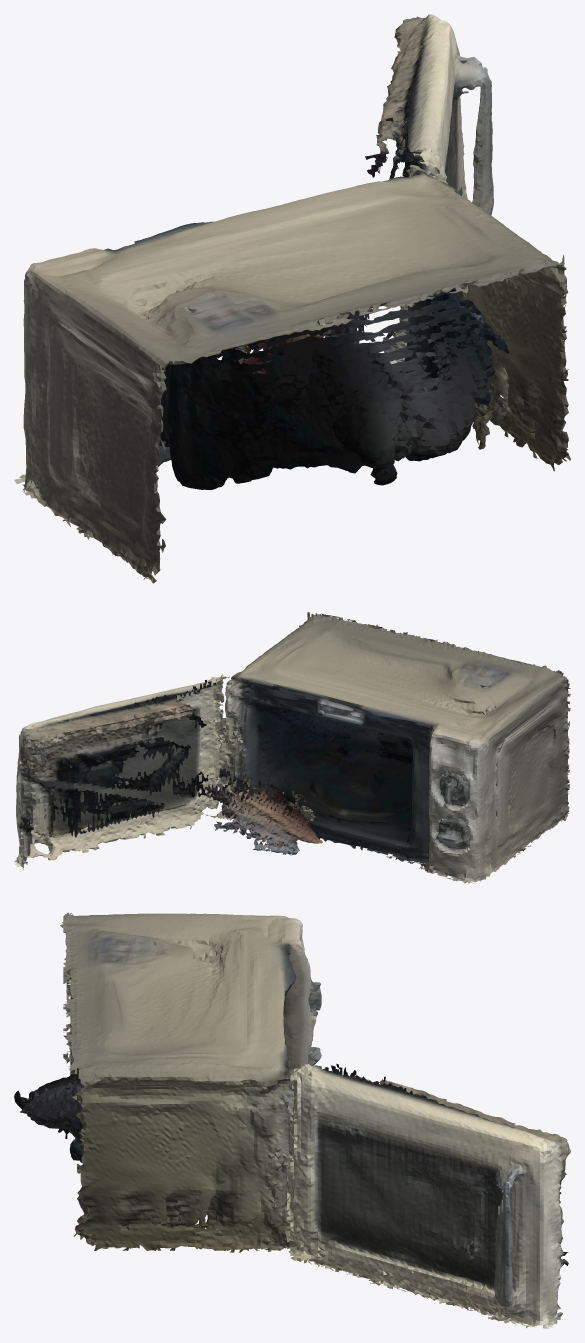
File: microwave.glb
The picture shows the model from 3 angles, top to bottom: view 1: azimuth 30°, elevation 25°; view 2: azimuth 150°, elevation 25°; view 3: azimuth 270°, elevation 25°; orthographic projection. The views are drawn at different scales.
Parts seen in each view (by area): view 1: microwave_start_0, microwave_start_1; view 2: microwave_start_0, microwave_start_1; view 3: microwave_start_0, microwave_start_1.
Boxes of the visible parts, bbox=[...] form: microwave_start_0: bbox=[14, 164, 570, 583]; microwave_start_1: bbox=[235, 14, 493, 373]; microwave_start_0: bbox=[206, 612, 570, 883]; microwave_start_1: bbox=[14, 674, 322, 869]; microwave_start_0: bbox=[14, 912, 321, 1252]; microwave_start_1: bbox=[281, 1063, 570, 1328].
Size of the model in its own units: 0.6646 by 0.2548 by 0.6426.
